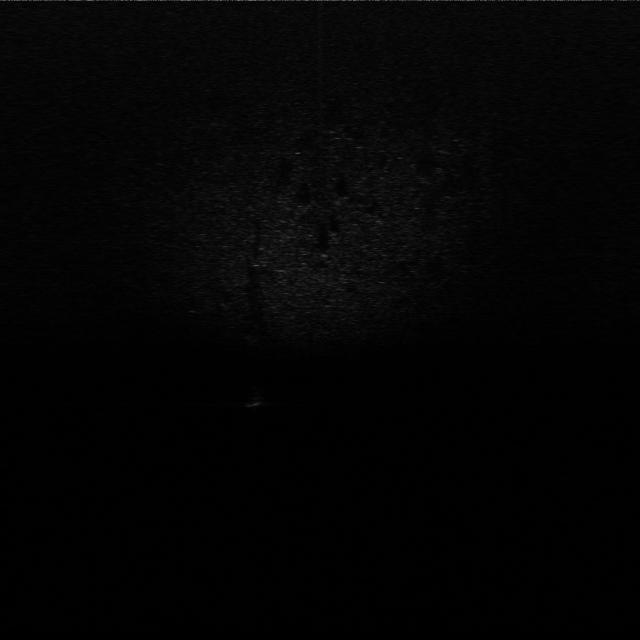human body: (240, 371, 276, 411)
